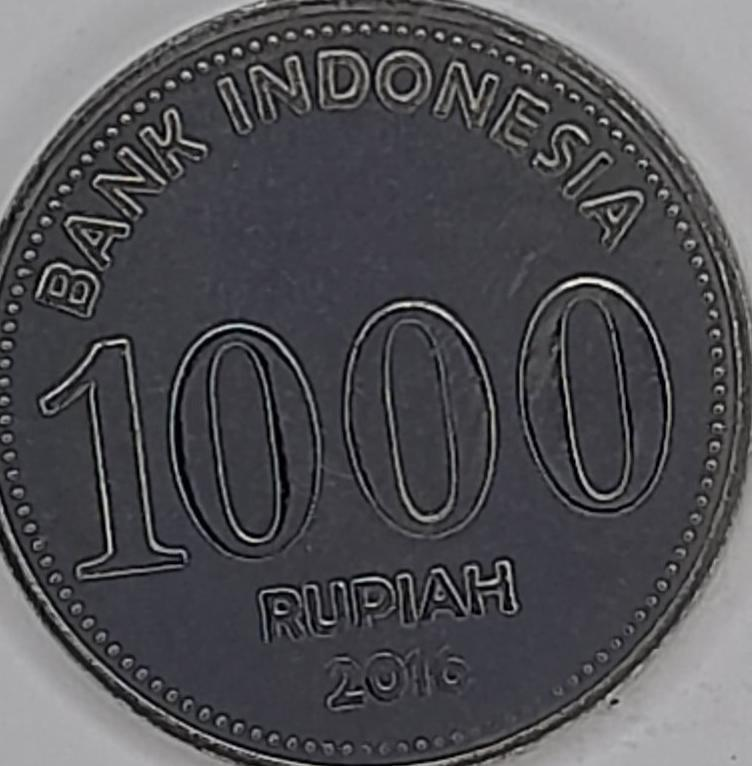coin_1000_e2016: (13, 15, 742, 766)
